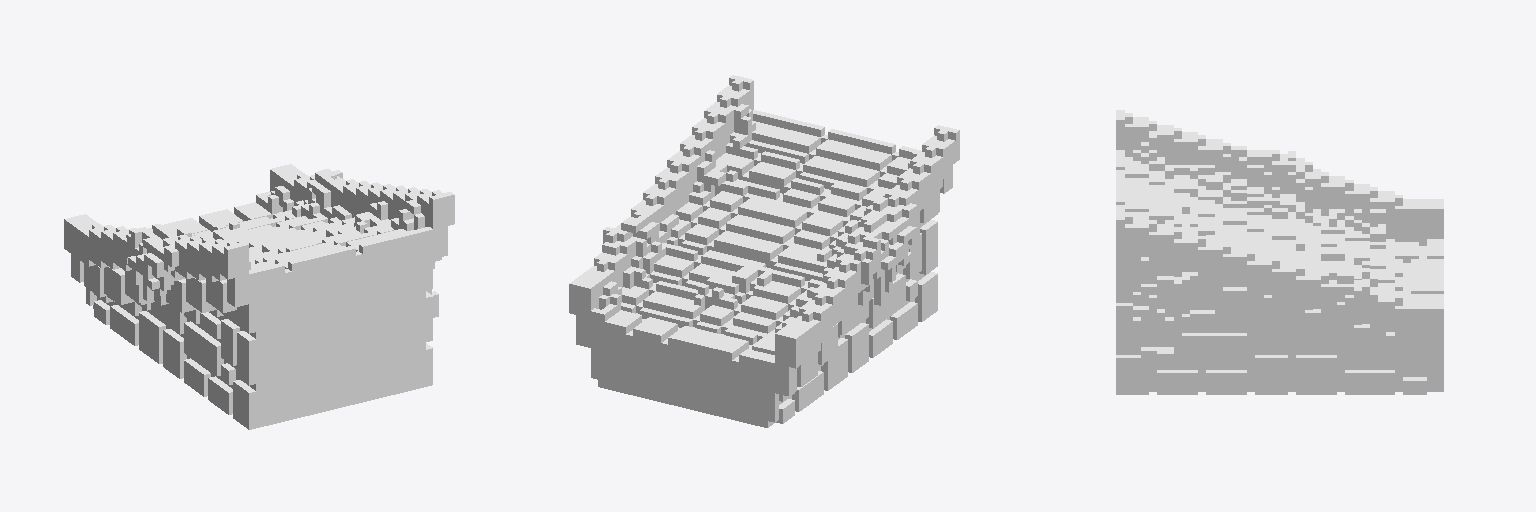
File: Stairs_Temple.obj
3 views of the same model, side by side, from view 1: azimuth 30°, elevation 25°; view 2: azimuth 150°, elevation 25°; view 3: azimuth 270°, elevation 25° (orthographic).
Size of the model in its own units: 35 by 25 by 40.